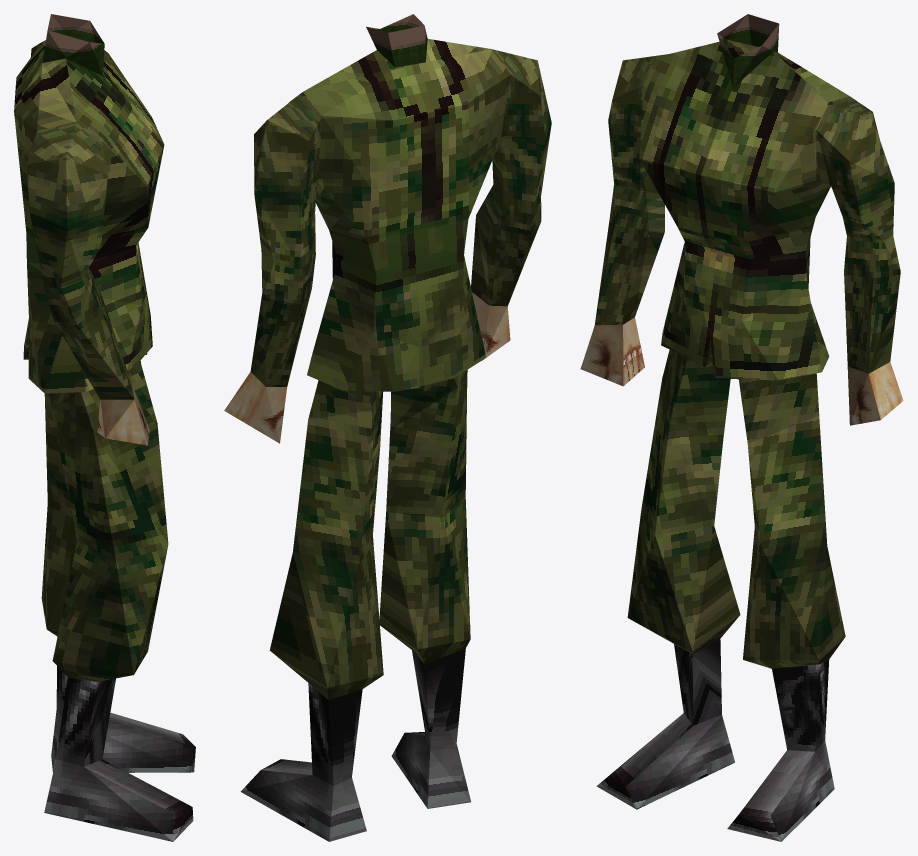
File: primary_014.glb
3 views of the same model, side by side, from view 1: azimuth 30°, elevation 25°; view 2: azimuth 150°, elevation 25°; view 3: azimuth 270°, elevation 25° (orthographic). The views are drawn at different scales.
Visible parts, largest first — view 1: Object; view 2: Object; view 3: Object.
Part boxes in pixels (x1,y1,x2,y2): Object: [14, 14, 195, 841]; Object: [224, 14, 551, 841]; Object: [580, 14, 903, 841].
Size of the model in its own units: 0.5668 by 1.83 by 0.71.
Materials: 85 (85 with a texture image).
